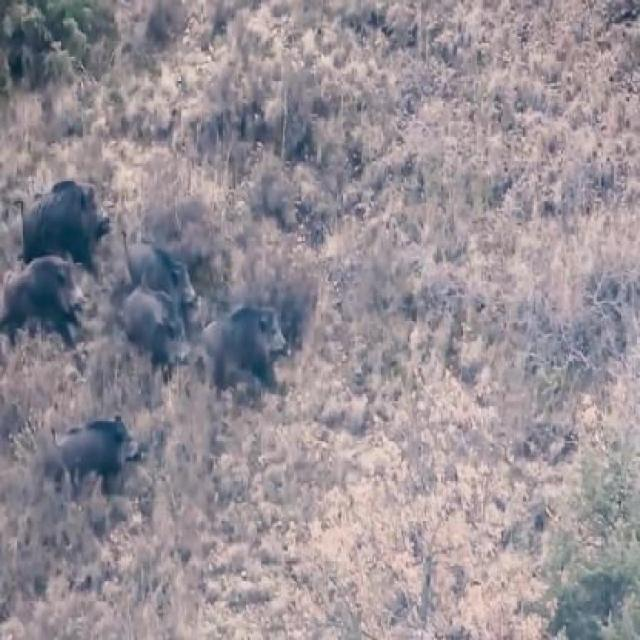pig: (0, 251, 94, 372), (12, 157, 116, 248), (220, 288, 296, 412), (43, 400, 139, 476), (137, 237, 208, 331), (126, 277, 191, 373)
